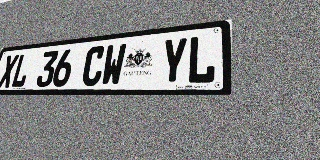3: (35, 50, 59, 87)
6: (51, 49, 76, 87)
C: (80, 45, 106, 86)
L: (186, 34, 216, 84), (10, 53, 33, 88)
W: (100, 43, 127, 86)
X: (0, 54, 19, 88)
Y: (159, 37, 188, 85)
